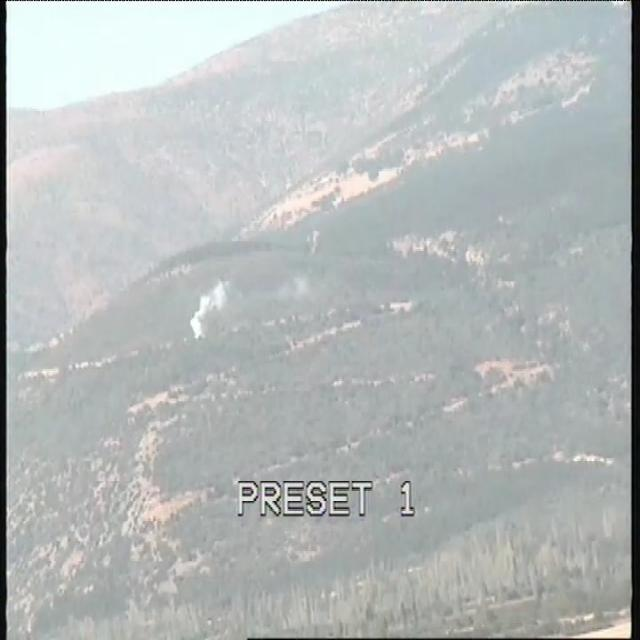smoke: (187, 279, 230, 340)
